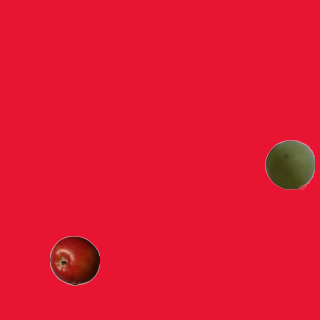Apple Braeburn: (49, 235, 99, 285)
Grape White 4: (264, 139, 314, 189)
